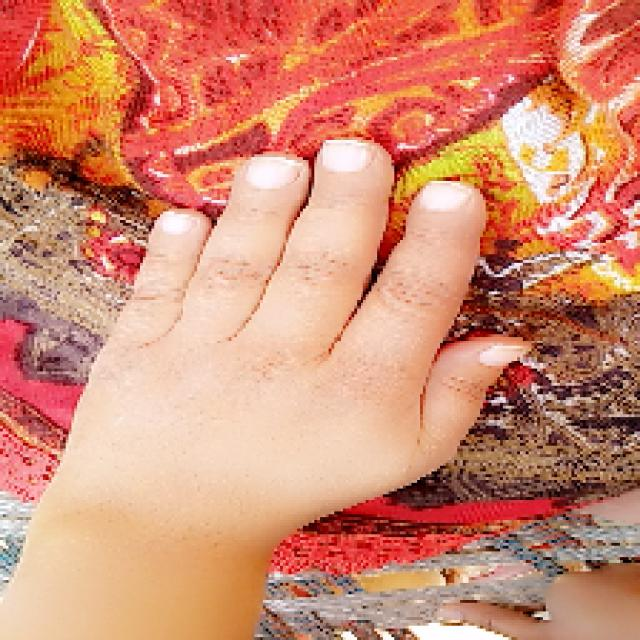Nail: (245, 155, 301, 189), (320, 139, 372, 172), (420, 180, 472, 212), (479, 345, 529, 366), (159, 211, 195, 235)
